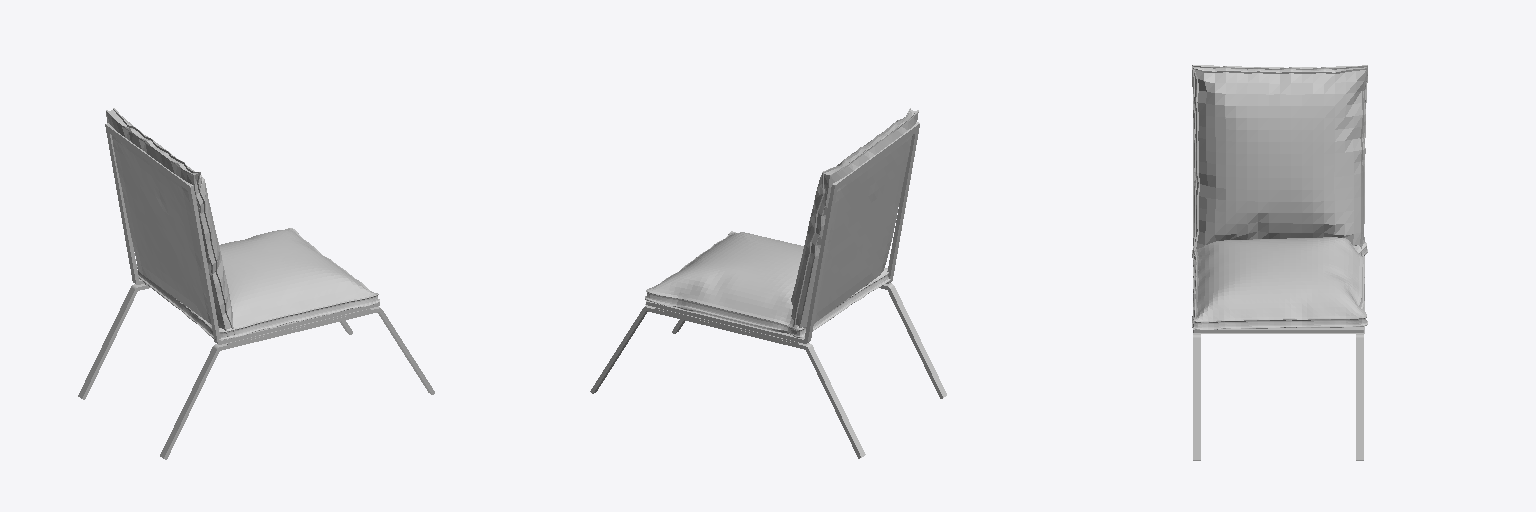
The model's file is chair3.obj.
3 renders of one model, left to right at view 1: azimuth 30°, elevation 25°; view 2: azimuth 150°, elevation 25°; view 3: azimuth 270°, elevation 25°, orthographic.
Visible parts, largest first — view 1: Plane.003_Plane.004, Plane.002, Plane.001; view 2: Plane.003_Plane.004, Plane.002, Plane.001; view 3: Plane.003_Plane.004, Plane.002, Plane.001.
Boxes of the visible parts, box(x1,y1,x2,y2) form: Plane.003_Plane.004: box(106, 108, 235, 336); Plane.002: box(137, 228, 379, 339); Plane.001: box(78, 123, 434, 459); Plane.003_Plane.004: box(791, 108, 918, 333); Plane.002: box(645, 231, 891, 337); Plane.001: box(590, 122, 946, 458); Plane.003_Plane.004: box(1192, 65, 1367, 255); Plane.002: box(1192, 237, 1367, 329); Plane.001: box(1193, 106, 1364, 460).
Size of the model in its own units: 0.7677 by 0.7551 by 0.4329.